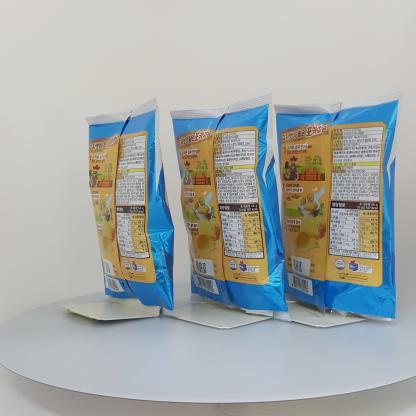Plastic Packaging: (158, 93, 278, 322), (274, 95, 394, 321), (74, 86, 176, 320)
